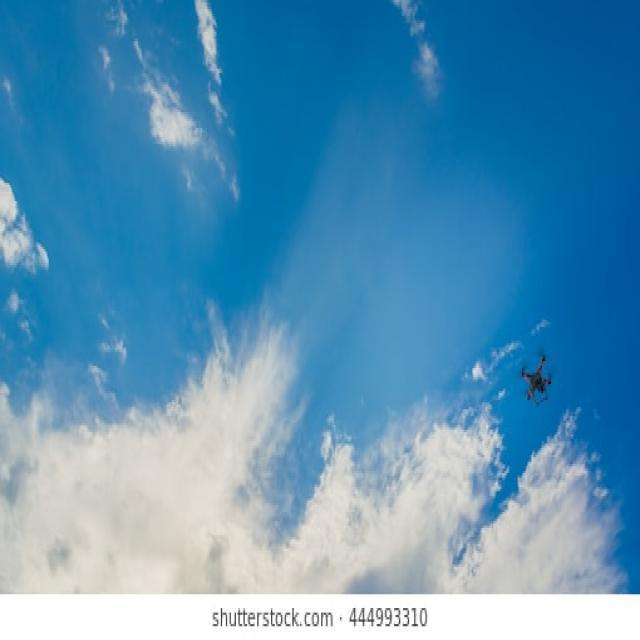drone: (500, 324, 582, 416)
